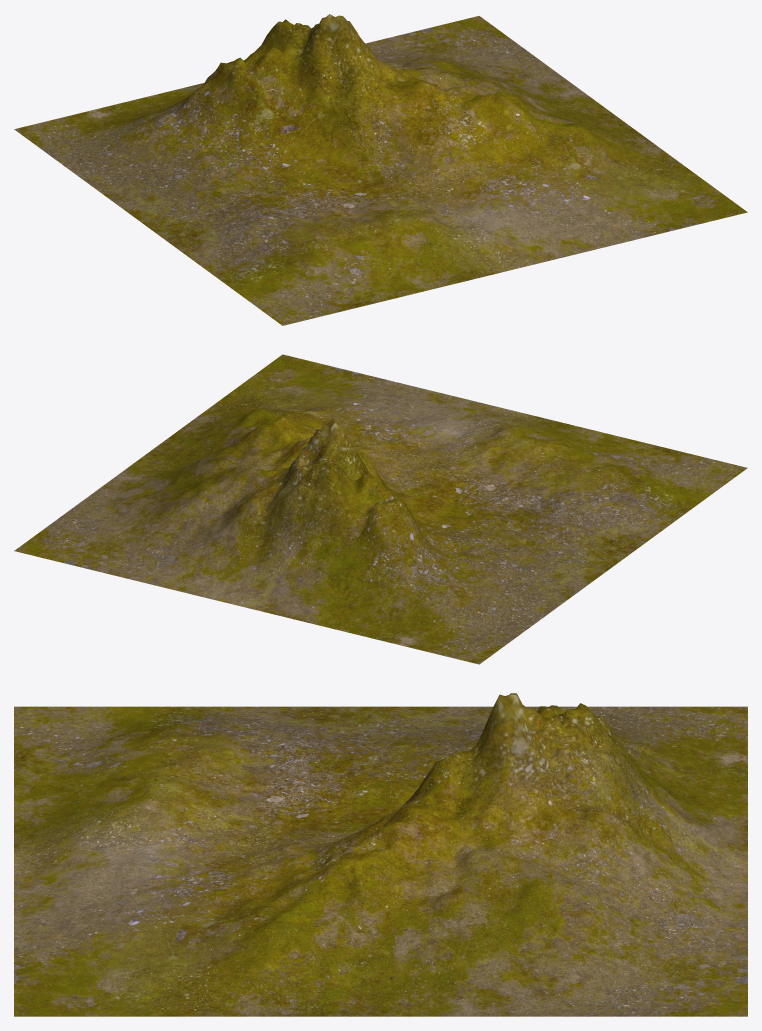
Rendered from uploads_files_4307558_Mountain.fbx.
The picture shows the model from 3 angles, top to bottom: view 1: azimuth 30°, elevation 25°; view 2: azimuth 150°, elevation 25°; view 3: azimuth 270°, elevation 25°; orthographic projection. The views are drawn at different scales.
Parts seen in each view (by area): view 1: Landscape; view 2: Landscape; view 3: Landscape.
Boxes of the visible parts, x1,y1,x2,y2 form: Landscape: [14, 14, 747, 325]; Landscape: [14, 354, 747, 664]; Landscape: [14, 693, 747, 1016].
Bounding box in the file's own units: 200 × 50.62 × 200.
